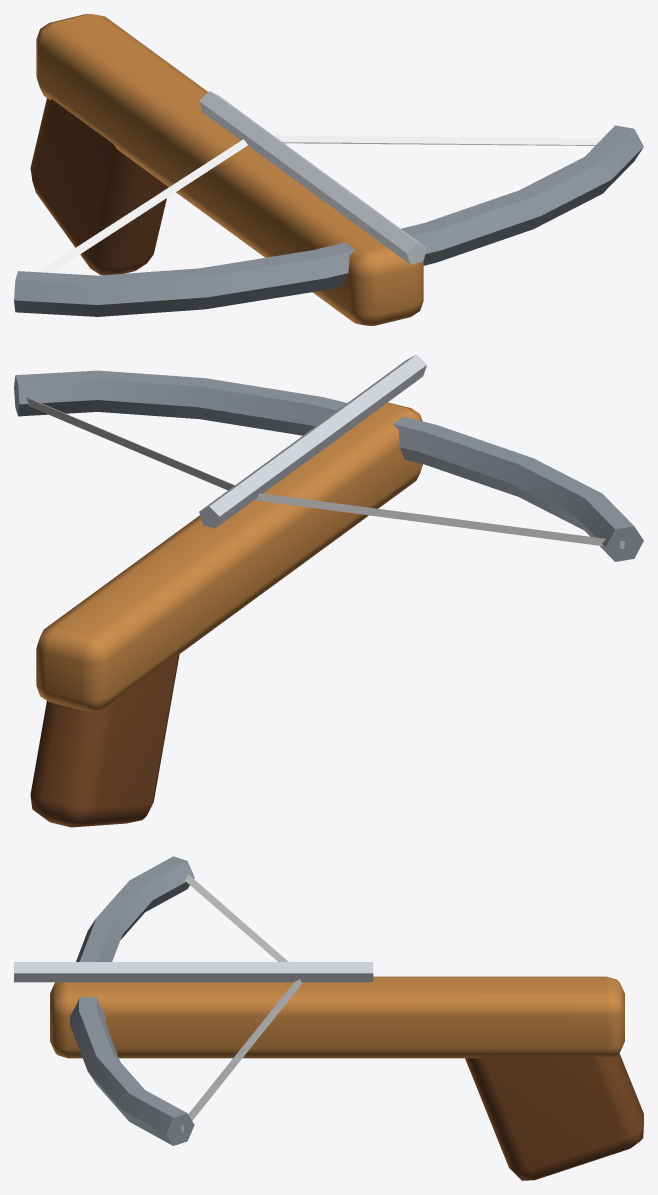
Rendered from Crossbow.fbx.
The picture shows the model from 3 angles, top to bottom: view 1: azimuth 30°, elevation 25°; view 2: azimuth 150°, elevation 25°; view 3: azimuth 270°, elevation 25°; orthographic projection. The views are drawn at different scales.
Parts seen in each view (by area): view 1: Crossbow; view 2: Crossbow; view 3: Crossbow.
Boxes of the visible parts, x1,y1,x2,y2 form: Crossbow: [14, 14, 643, 325]; Crossbow: [14, 354, 643, 827]; Crossbow: [14, 856, 643, 1180].
Bounding box in the file's own units: 1.75 × 0.6528 × 1.75.
Materials: 1 (1 with a texture image).
